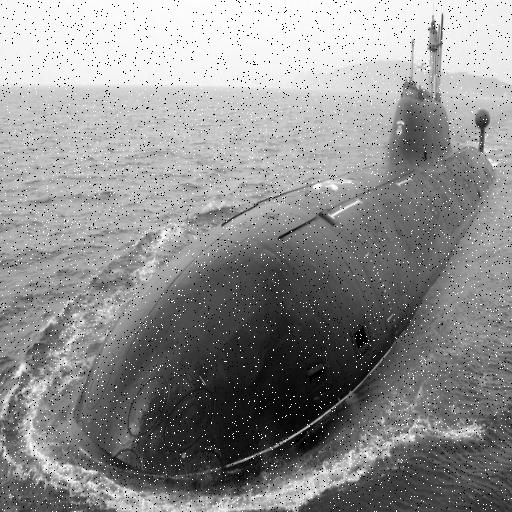submarine: (70, 1, 503, 489)
